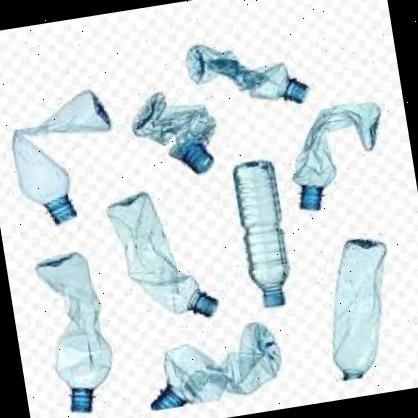bottle: (0, 81, 134, 236), (304, 225, 418, 395), (105, 180, 225, 340), (26, 241, 129, 418), (274, 87, 402, 228), (176, 14, 320, 134), (142, 316, 288, 418), (218, 148, 302, 320), (122, 80, 224, 188)
